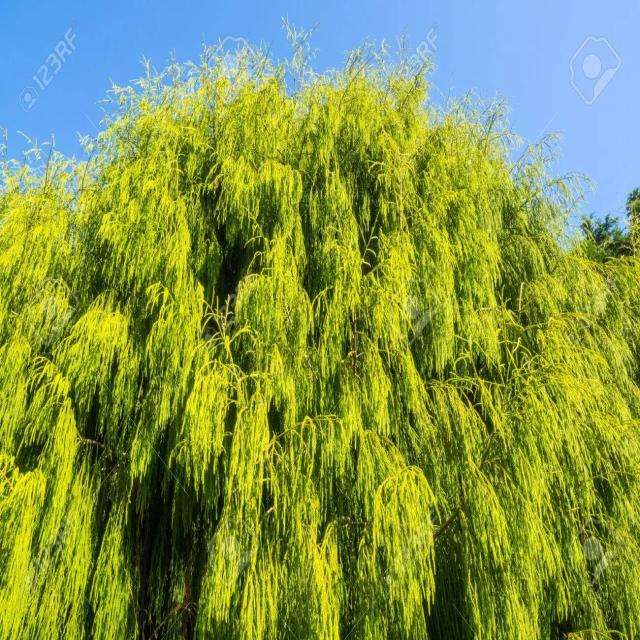Rimu: (4, 76, 640, 640)
